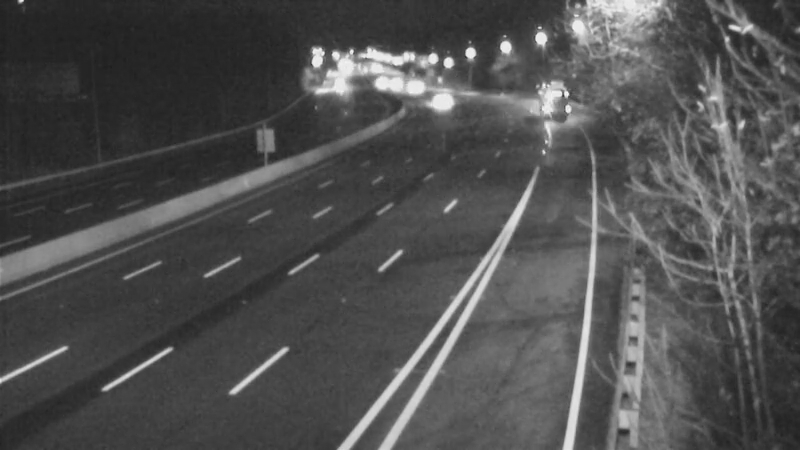vehicle: (351, 57, 401, 107), (388, 59, 438, 109), (522, 74, 572, 124), (414, 74, 464, 124)
